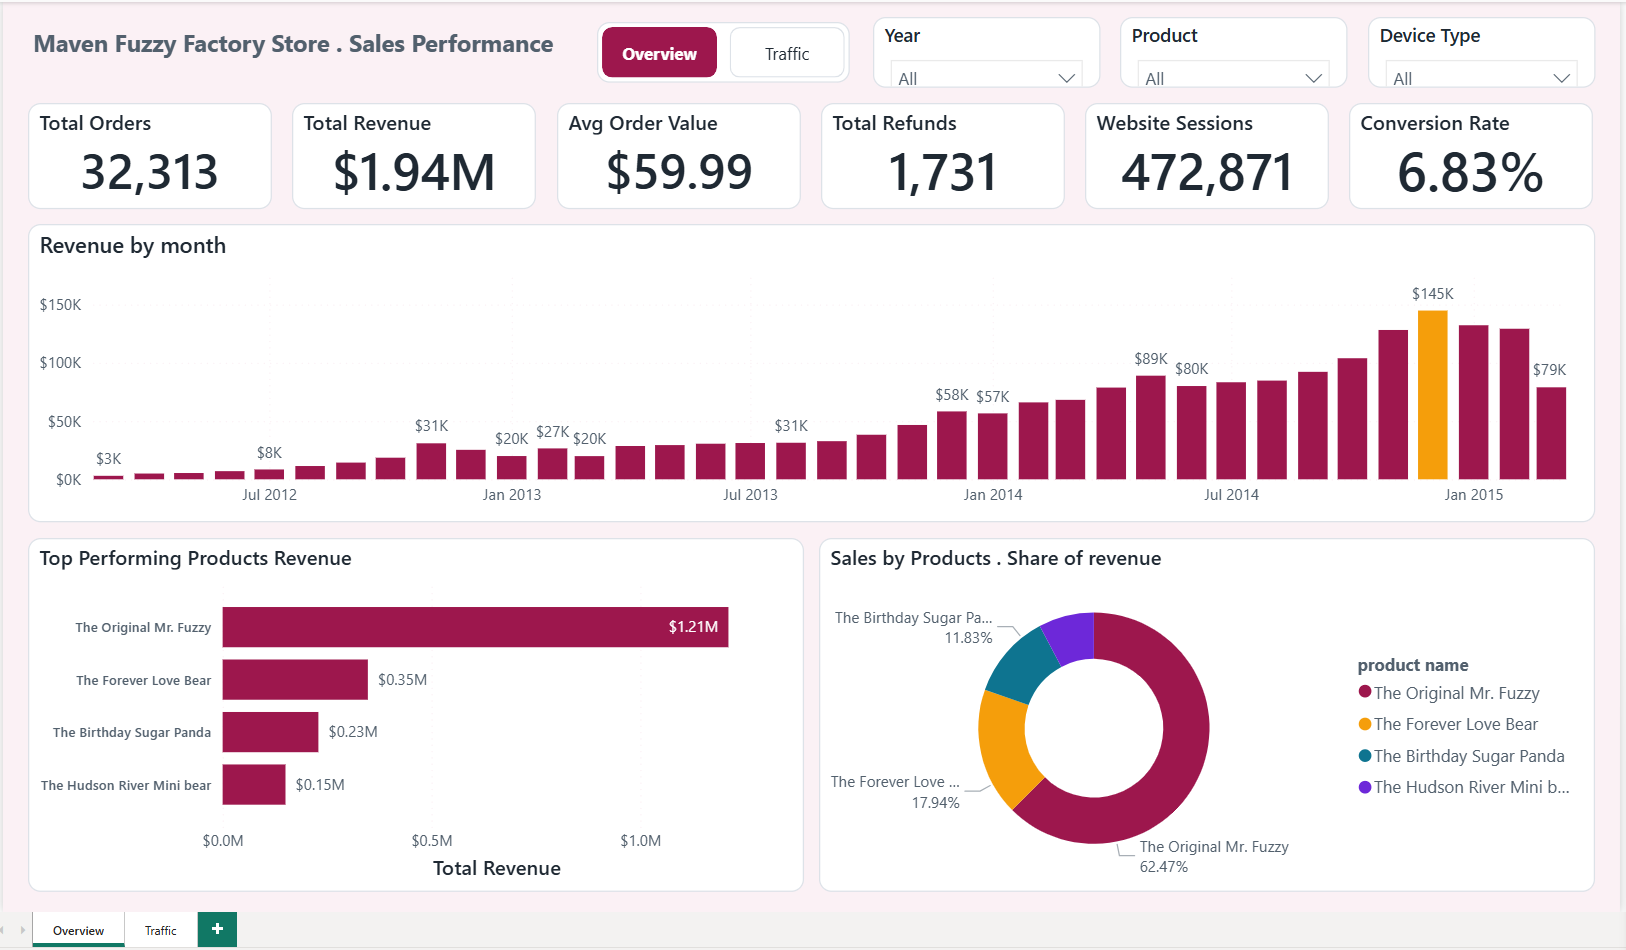

The page's visual inventory and layout, read from the dashboard file:
{"tool":"powerbi","page":{"name":"Overview","canvas":[1280,720],"ordinal":0},"visuals":[{"type":"card","title":"Total Orders","fields":{"Values":["orders_clean.Total Orders"]},"box":[20,80,193,84],"z":0},{"type":"card","title":"Total Revenue","fields":{"Values":["orders_clean.Total Revenue"]},"box":[229,80,193,84],"z":1000},{"type":"card","title":"Avg Order Value","fields":{"Values":["orders_clean.Average Order Value"]},"box":[438,80,193,84],"z":2000},{"type":"card","title":"Total Refunds","fields":{"Values":["orders_clean.Total Refunds"]},"box":[647,80,193,84],"z":3000},{"type":"card","title":"Website Sessions","fields":{"Values":["orders_clean.Website Sessions"]},"box":[856,80,193,84],"z":4000},{"type":"card","title":"Conversion Rate","fields":{"Values":["orders_clean.Conversion Rate"]},"box":[1065,80,193,84],"z":5000},{"type":"textbox","box":[20,16,440,50],"z":6000},{"type":"slicer","title":"Year","fields":{"Values":["sessions_clean.Year"]},"box":[688,12,180,56],"z":7000},{"type":"pageNavigator","box":[470,16,200,48],"z":8000},{"type":"slicer","title":"Product","fields":{"Values":["products_clean.product_name"]},"box":[884,12,180,56],"z":9000},{"type":"slicer","title":"Device Type","fields":{"Values":["sessions_clean.device_type"]},"box":[1080,12,180,56],"z":10000},{"type":"clusteredColumnChart","title":"Revenue by month","fields":{"Category":["order_items_clean.Month Start"],"Y":["orders_clean.Total Revenue"]},"box":[20,176,1240,236],"z":11000},{"type":"clusteredBarChart","title":"Top Performing Products Revenue","fields":{"Y":["orders_clean.Total Revenue"],"Category":["products_clean.product_name"]},"box":[20,424,614,280],"z":12000},{"type":"donutChart","title":"Sales by Products . Share of revenue","fields":{"Category":["products_clean.product_name"],"Y":["orders_clean.Total Revenue"]},"box":[646,424,614,280],"z":13000}]}

Visuals, with their boxes on the page's 1280x720 design canvas (x1, y1, x2, y2). These are canvas units, not pixel positions in the 1626x950 screenshot, which may show the page scaled, cropped or inside an application window:
"Total Orders" card: bbox=(20, 80, 213, 164)
"Total Revenue" card: bbox=(229, 80, 422, 164)
"Avg Order Value" card: bbox=(438, 80, 631, 164)
"Total Refunds" card: bbox=(647, 80, 840, 164)
"Website Sessions" card: bbox=(856, 80, 1049, 164)
"Conversion Rate" card: bbox=(1065, 80, 1258, 164)
textbox: bbox=(20, 16, 460, 66)
"Year" slicer: bbox=(688, 12, 868, 68)
pageNavigator: bbox=(470, 16, 670, 64)
"Product" slicer: bbox=(884, 12, 1064, 68)
"Device Type" slicer: bbox=(1080, 12, 1260, 68)
"Revenue by month" clusteredColumnChart: bbox=(20, 176, 1260, 412)
"Top Performing Products Revenue" clusteredBarChart: bbox=(20, 424, 634, 704)
"Sales by Products . Share of revenue" donutChart: bbox=(646, 424, 1260, 704)
